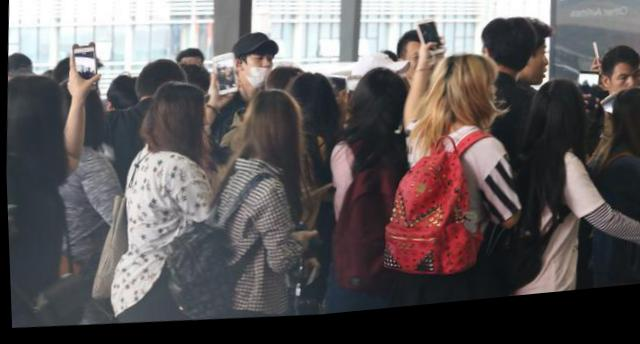NONE: (517, 53, 550, 99), (606, 79, 640, 114)
WRONG: (236, 50, 278, 94)
